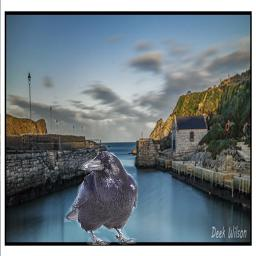Crow: (64, 150, 138, 245)
